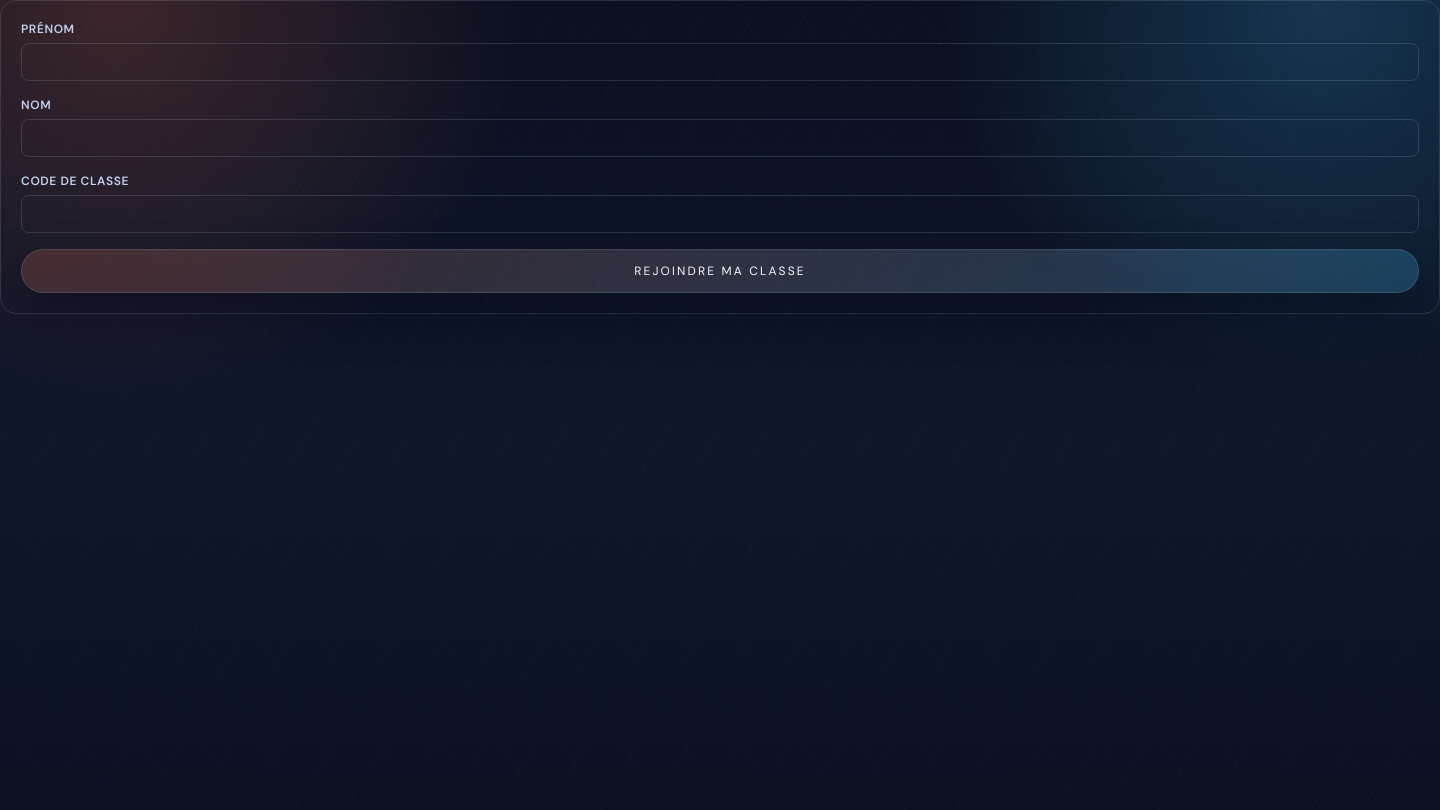
Scenario: JoinClassForm › submit erreur 404 code_not_found → message en français affiché
The width and height of the screenshot is (1440, 810).
Type "Léa" into the field labelled "Prénom".
click(720, 62); type("Léa")  # box [21,43,1419,81]
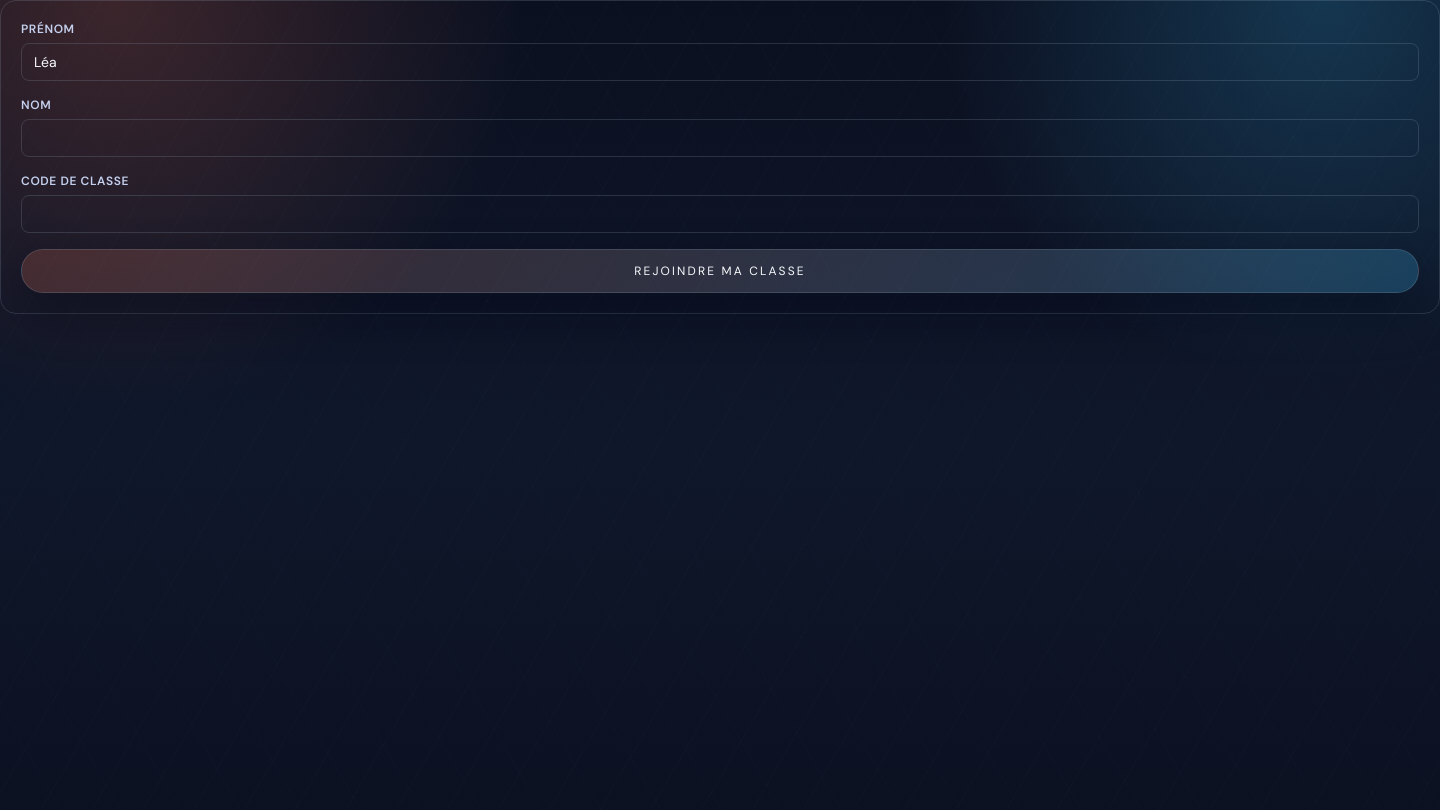
Type "Dupont" into the field labelled "Nom".
click(720, 138); type("Dupont")  # box [21,119,1419,157]
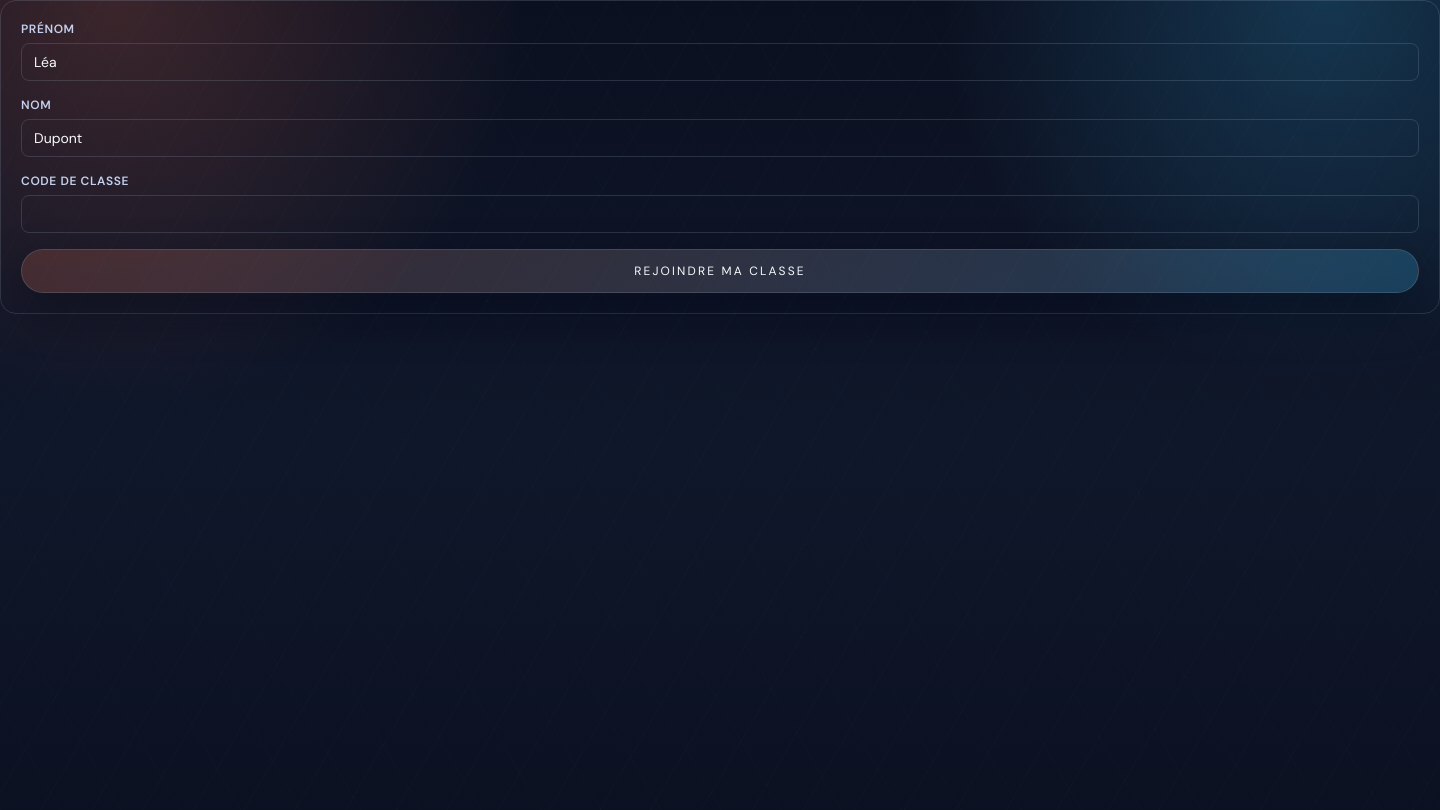
Type "ABCD12" into the field labelled "Code de classe".
click(720, 214); type("ABCD12")  # box [21,195,1419,233]
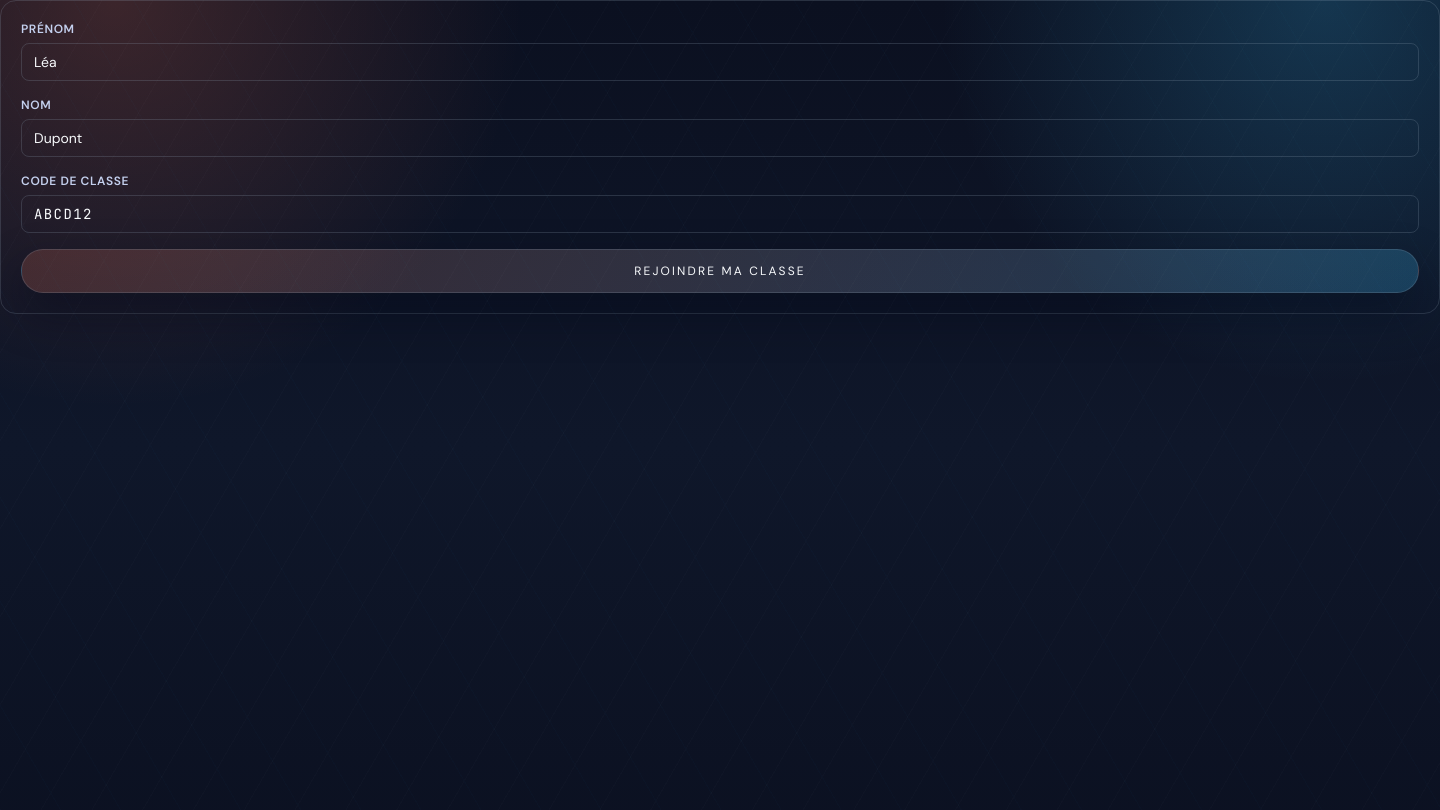
Click the button "Rejoindre ma classe".
click(720, 271)  # box [21,249,1419,293]
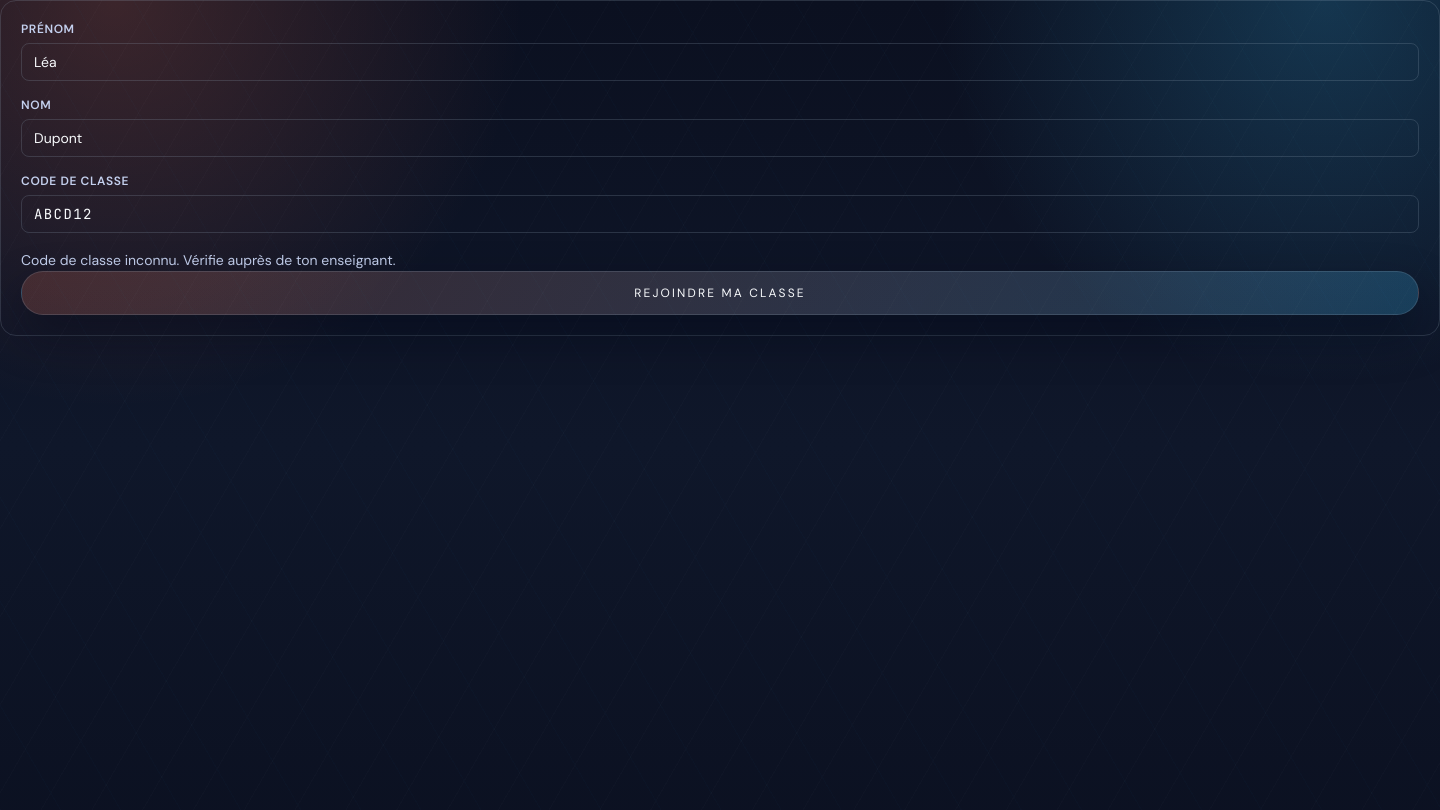
expect the message with test id "join-form-error" shows "Code de classe inconnu": met, box [21,251,396,269]
